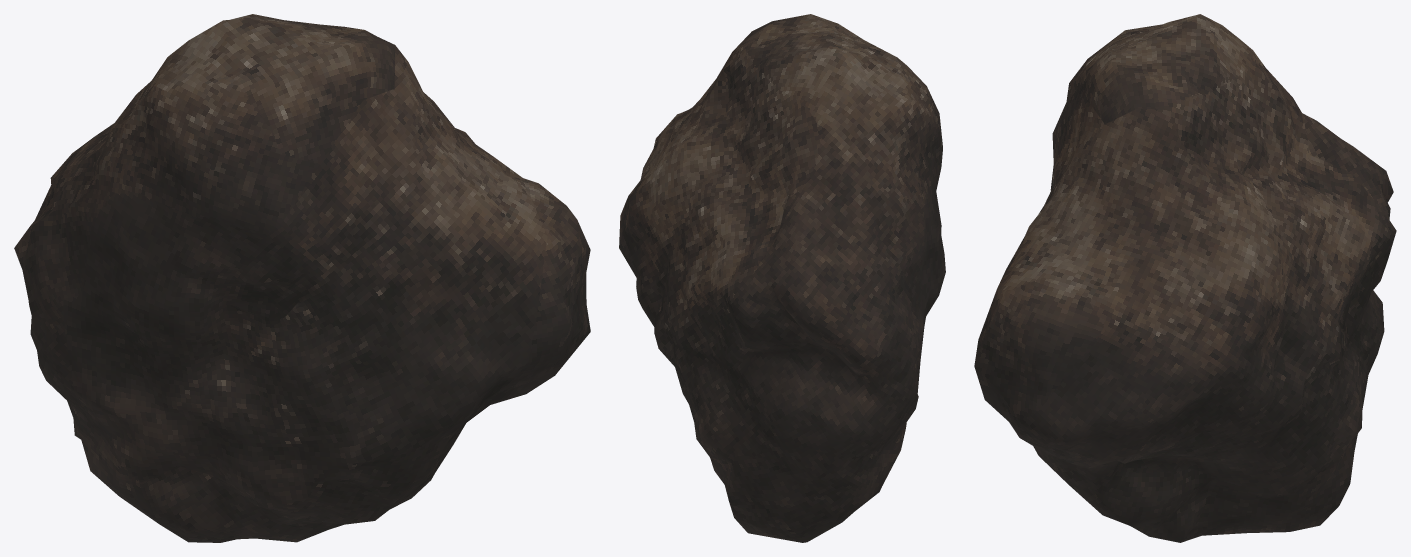
File: SM_RP2_Rock_4m_0.001.glb
3 views of the same model, side by side, from view 1: azimuth 30°, elevation 25°; view 2: azimuth 150°, elevation 25°; view 3: azimuth 270°, elevation 25° (orthographic). The views are drawn at different scales.
Visible parts, largest first — view 1: SM_RP2_Rock_4m_0.001; view 2: SM_RP2_Rock_4m_0.001; view 3: SM_RP2_Rock_4m_0.001.
Part boxes in pixels (x1,y1,x2,y2): SM_RP2_Rock_4m_0.001: [14, 14, 590, 542]; SM_RP2_Rock_4m_0.001: [619, 14, 945, 542]; SM_RP2_Rock_4m_0.001: [974, 14, 1396, 542].
Size of the model in its own units: 6 by 7.47 by 5.64.
1 material, 1 textured.
